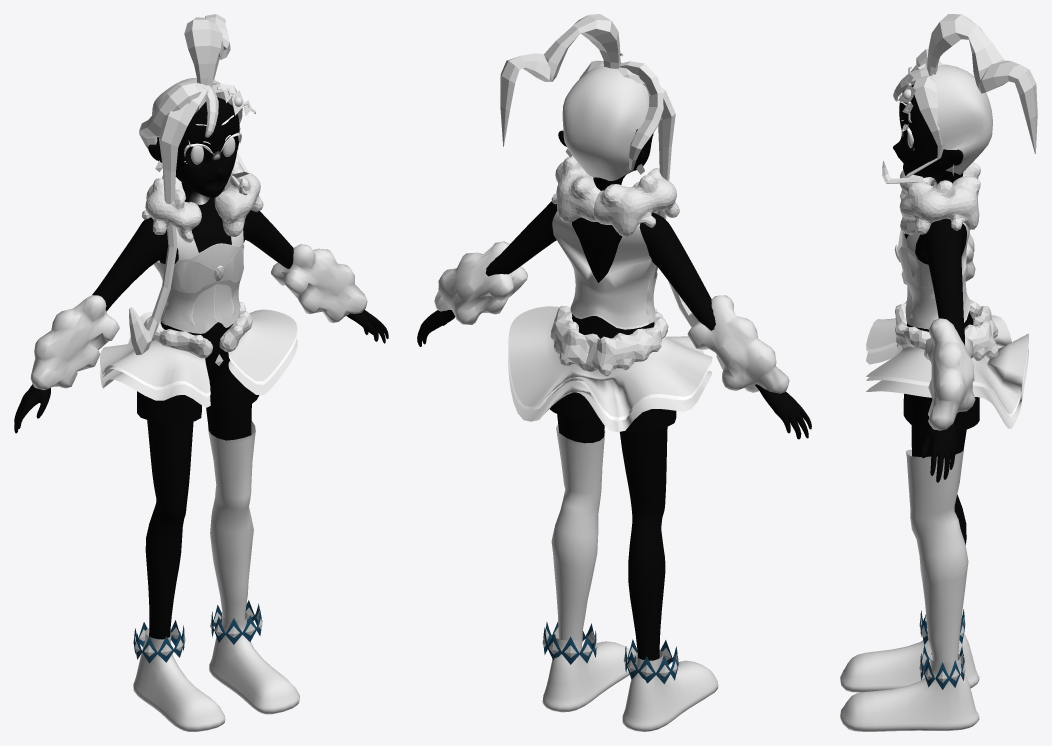
The model's file is Lisia.fbx.
3 views of the same model, side by side, from view 1: azimuth 30°, elevation 25°; view 2: azimuth 150°, elevation 25°; view 3: azimuth 270°, elevation 25° (orthographic). The views are drawn at different scales.
Visible parts, largest first — view 1: body.002, cloudHands.001, shoe.001, hairCurve.001, socks.001, skirtUp.001, cloudMuflar.001, shirt1.001, skirt.001, shirt2.001, gem2.001, skirtDown2.001 (+2 smaller); view 2: body.002, skirtUp.001, cloudHands.001, shoe.001, socks.001, hairCurve.001, baseHair, shirt1.001, cloudMuflar.001, cloudBelt.001, skirtDown2.001, gem2.001 (+2 smaller); view 3: shoe.001, body.002, socks.001, hairCurve.001, skirtUp.001, cloudHands.001, baseHair, cloudMuflar.001, cloudBelt.001, skirtDown2.001, shirt2.001, shirt1.001 (+4 smaller).
Part boxes in pixels (box(x1,y1,x2,y2)): body.002: box(14, 97, 388, 639); cloudHands.001: box(30, 244, 367, 390); shoe.001: box(133, 612, 299, 731); hairCurve.001: box(129, 14, 248, 354); socks.001: box(208, 421, 255, 620); skirtUp.001: box(100, 309, 297, 393); cloudMuflar.001: box(142, 161, 263, 242); shirt1.001: box(153, 228, 244, 333); skirt.001: box(137, 350, 259, 422); shirt2.001: box(161, 247, 243, 325); gem2.001: box(133, 600, 262, 663); skirtDown2.001: box(100, 338, 297, 407); body.002: box(417, 129, 811, 660); skirtUp.001: box(508, 306, 712, 417); cloudHands.001: box(434, 241, 789, 393); shoe.001: box(542, 632, 718, 731); socks.001: box(551, 424, 605, 640); hairCurve.001: box(500, 14, 698, 327); baseHair: box(562, 65, 649, 180); shirt1.001: box(552, 211, 656, 329); cloudMuflar.001: box(551, 156, 679, 236); cloudBelt.001: box(550, 305, 668, 376); skirtDown2.001: box(508, 355, 711, 432); gem2.001: box(542, 622, 678, 684); shoe.001: box(840, 633, 979, 731); body.002: box(893, 84, 972, 544); socks.001: box(906, 449, 968, 662); hairCurve.001: box(882, 14, 1037, 284); skirtUp.001: box(866, 315, 1028, 413); cloudHands.001: box(924, 233, 975, 430); baseHair: box(932, 64, 992, 174); cloudMuflar.001: box(899, 162, 980, 234); cloudBelt.001: box(895, 299, 998, 360); skirtDown2.001: box(866, 345, 1028, 428); shirt2.001: box(898, 229, 938, 329); shirt1.001: box(901, 184, 970, 328).
Bounding box in the file's own units: 113 × 192 × 49.57.
